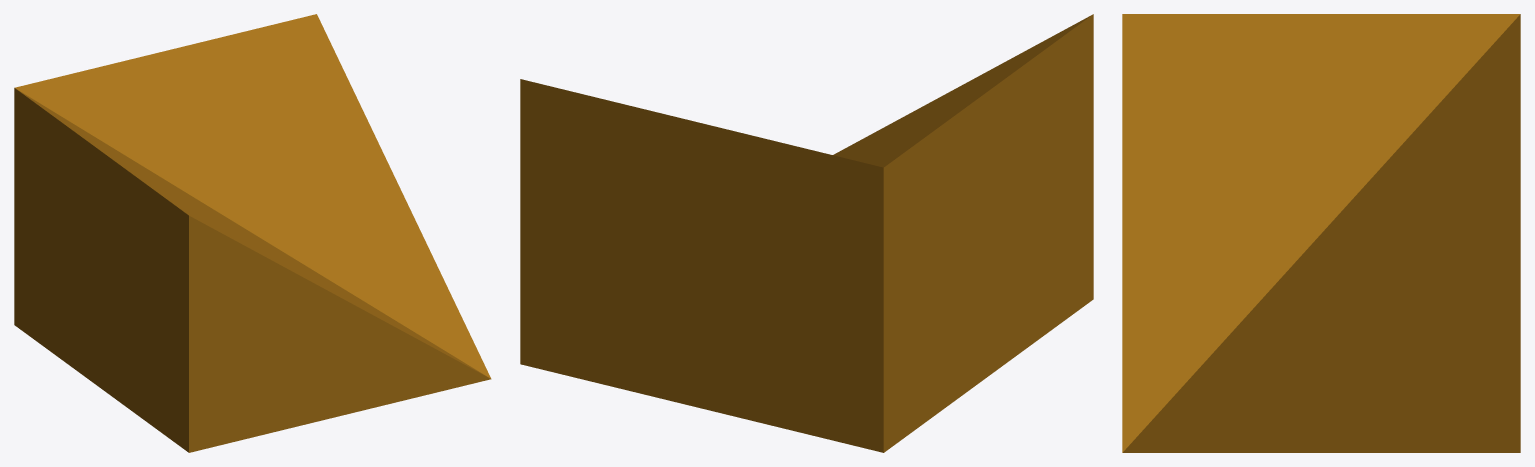
Rendered from Roof-Steep-4x4x3-Corner-Concave.FBX.
The picture shows the model from 3 angles, left to right: view 1: azimuth 30°, elevation 25°; view 2: azimuth 150°, elevation 25°; view 3: azimuth 270°, elevation 25°; orthographic projection. The views are drawn at different scales.
Parts seen in each view (by area): view 1: Roof-Steep-4x4x3-Corner-Concave; view 2: Roof-Steep-4x4x3-Corner-Concave; view 3: Roof-Steep-4x4x3-Corner-Concave.
Boxes of the visible parts, left/top/right/bottom form: Roof-Steep-4x4x3-Corner-Concave: left=14, top=14, right=491, bottom=452; Roof-Steep-4x4x3-Corner-Concave: left=520, top=14, right=1093, bottom=452; Roof-Steep-4x4x3-Corner-Concave: left=1122, top=14, right=1520, bottom=452.
Bounding box in the file's own units: 40 × 40 × 30.
